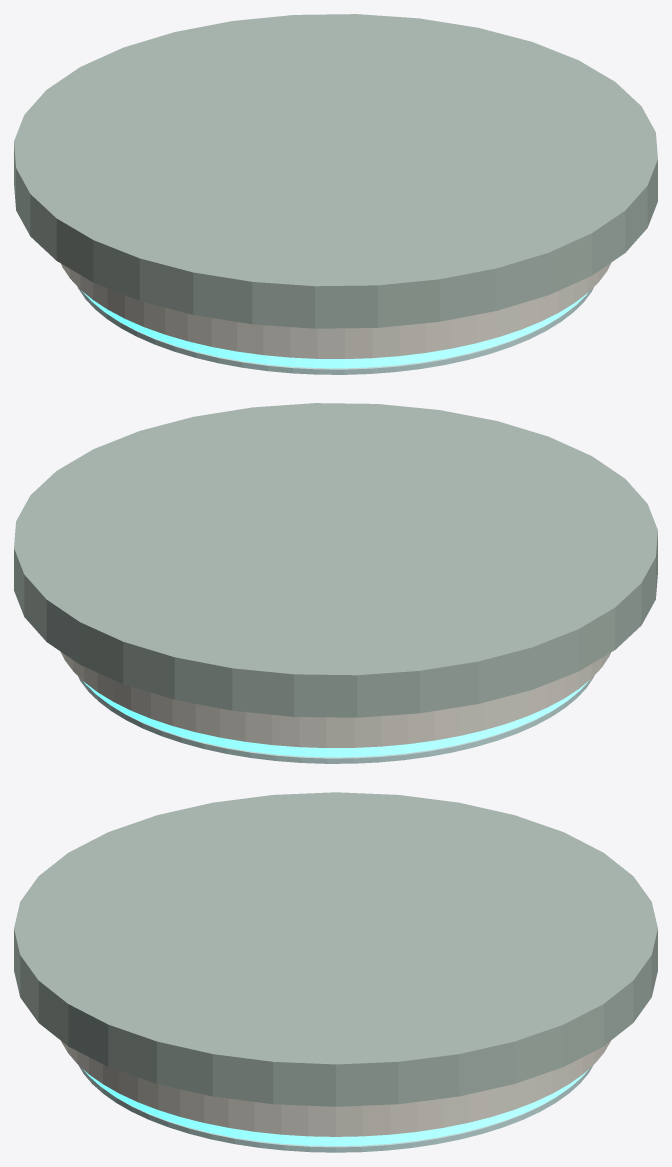
The model's file is s7-lc3-corridor-ceiling-ring-small.glb.
3 views of the same model, one above another, from view 1: azimuth 30°, elevation 25°; view 2: azimuth 150°, elevation 25°; view 3: azimuth 270°, elevation 25° (orthographic).
Visible parts, largest first — view 1: 000_corridor_ceiling_backplate_0, 001_ceiling_recessed_bezel_0, 002_recessed_ring_emitter_0, 003_ring_diffuser_0; view 2: 000_corridor_ceiling_backplate_0, 001_ceiling_recessed_bezel_0, 002_recessed_ring_emitter_0, 003_ring_diffuser_0; view 3: 000_corridor_ceiling_backplate_0, 001_ceiling_recessed_bezel_0, 002_recessed_ring_emitter_0, 003_ring_diffuser_0.
Part boxes in pixels (x1,y1,x2,y2): 000_corridor_ceiling_backplate_0: (14, 14, 657, 328); 001_ceiling_recessed_bezel_0: (61, 262, 611, 358); 002_recessed_ring_emitter_0: (82, 291, 588, 368); 003_ring_diffuser_0: (78, 287, 593, 374); 000_corridor_ceiling_backplate_0: (14, 403, 657, 717); 001_ceiling_recessed_bezel_0: (60, 651, 610, 747); 002_recessed_ring_emitter_0: (83, 680, 589, 757); 003_ring_diffuser_0: (78, 676, 593, 763); 000_corridor_ceiling_backplate_0: (14, 792, 657, 1106); 001_ceiling_recessed_bezel_0: (61, 1041, 610, 1136); 002_recessed_ring_emitter_0: (84, 1070, 587, 1145); 003_ring_diffuser_0: (78, 1065, 593, 1152).
Bounding box in the file's own units: 0.44 × 0.088 × 0.44.
